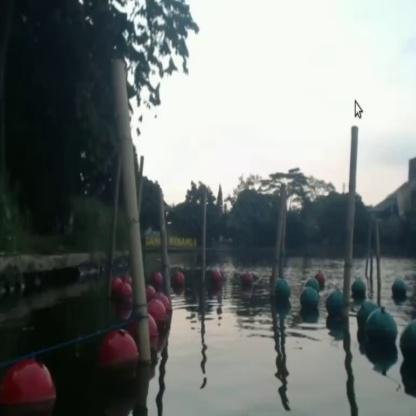green_buoy: (364, 310, 396, 360), (400, 320, 415, 374), (298, 286, 318, 320), (326, 290, 344, 324), (276, 274, 290, 308), (391, 276, 409, 300), (356, 302, 372, 324), (353, 278, 367, 298), (303, 278, 318, 295)
red_buoy: (5, 368, 59, 414), (105, 336, 138, 380), (152, 294, 169, 320), (148, 314, 160, 350), (113, 279, 129, 303), (206, 270, 221, 292), (172, 272, 186, 292), (240, 273, 251, 290), (314, 270, 324, 288), (152, 272, 162, 290)
